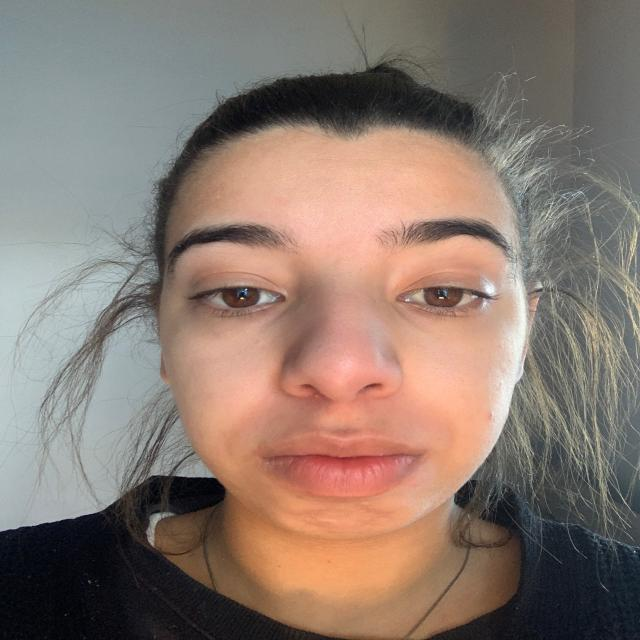Acne: (461, 397, 516, 438), (222, 424, 266, 469), (336, 508, 388, 530)
